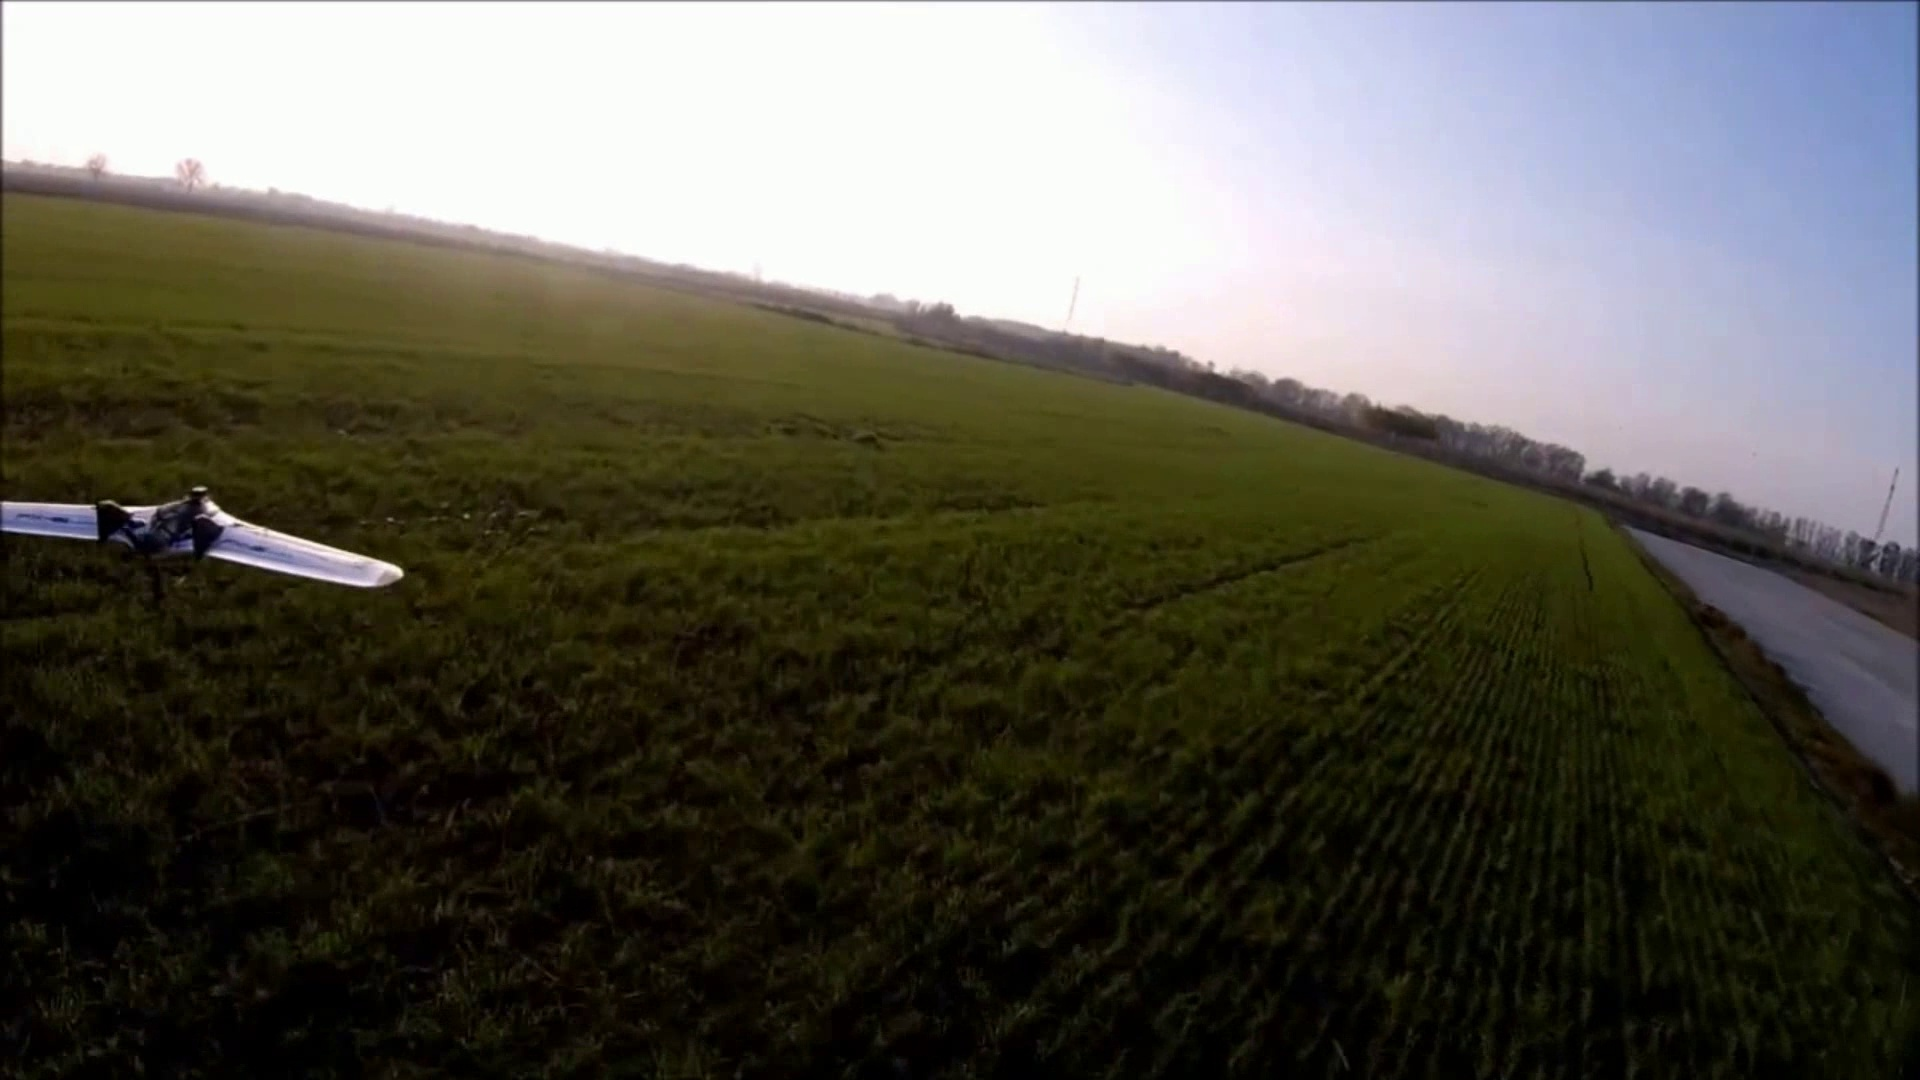airplane: (0, 484, 404, 595)
